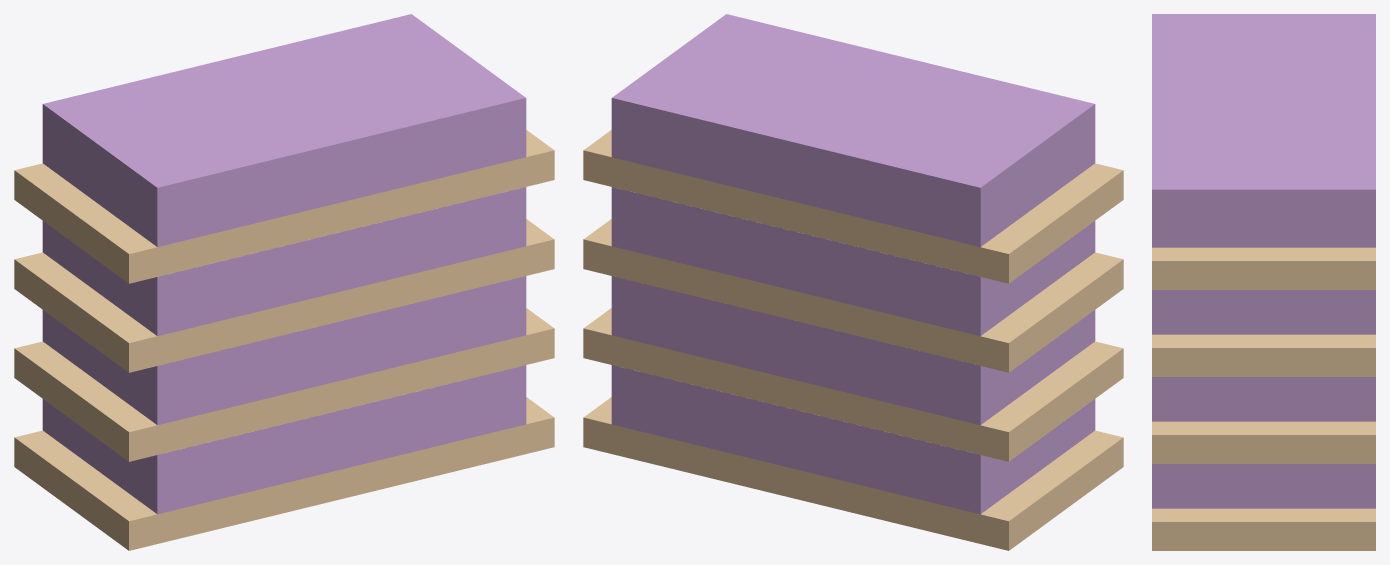
File: alien-biosphere-layered-outcrop-6b8aa4aa__22750.glb
3 views of the same model, side by side, from view 1: azimuth 30°, elevation 25°; view 2: azimuth 150°, elevation 25°; view 3: azimuth 270°, elevation 25° (orthographic). The views are drawn at different scales.
Parts seen in each view (by area): view 1: layered-outcrop; view 2: layered-outcrop; view 3: layered-outcrop.
Part boxes in pixels (box(x1,y1,x2,y2)): layered-outcrop: box(14, 14, 554, 550); layered-outcrop: box(583, 14, 1123, 550); layered-outcrop: box(1152, 14, 1375, 550).
Size of the model in its own units: 3 by 2.4 by 1.4.
